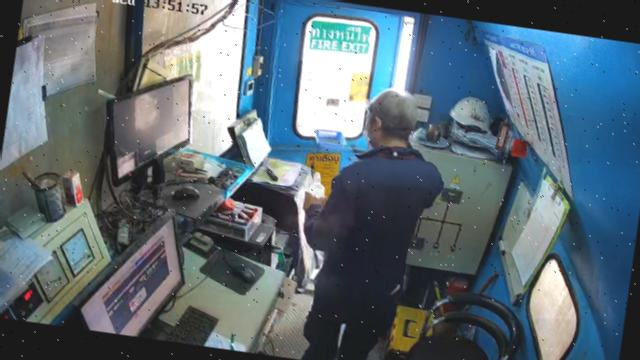Head: (364, 89, 418, 147)
People: (303, 91, 443, 359)
